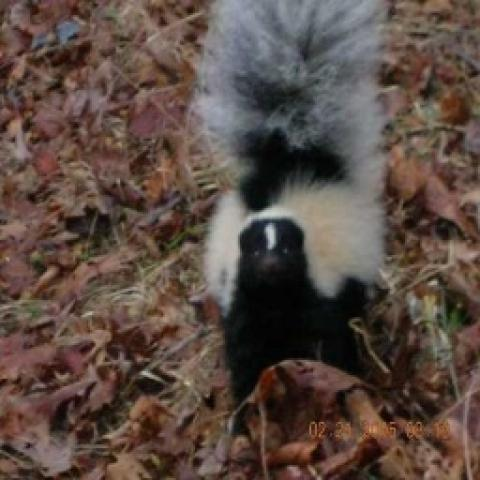small_animal: (190, 0, 396, 416)
